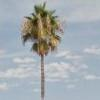Tree: (17, 4, 66, 63)
